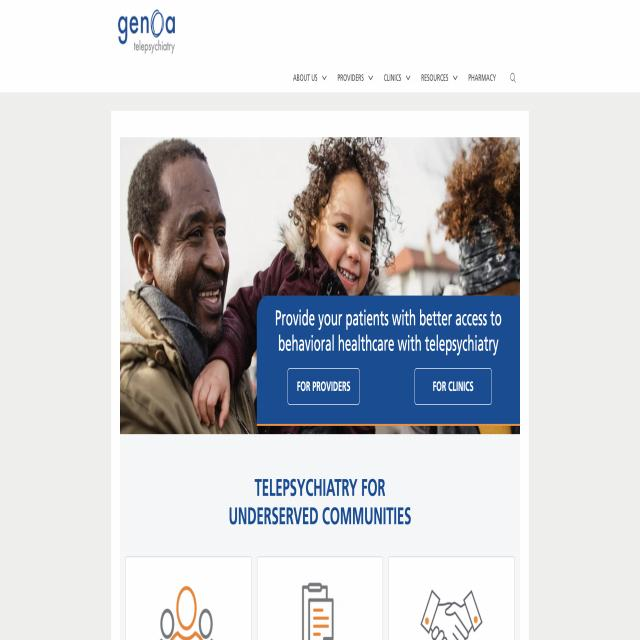Logo: (115, 0, 207, 76)
Navigation: (288, 67, 525, 94)
